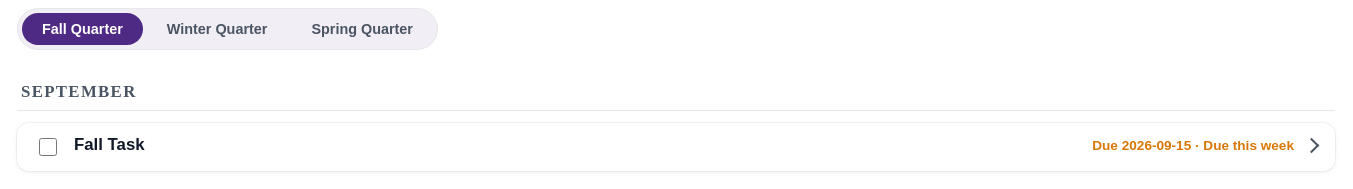
Test: QuarterBoard › switching tabs swaps which months/tasks are shown
The width and height of the screenshot is (1353, 189).
Expected: the text "Fall Task" is shown, [74,135,145,155]
Expected: the text "Winter Task" is not shown
Click the tab "Winter Quarter".
click(217, 29)  # box [147,13,287,45]
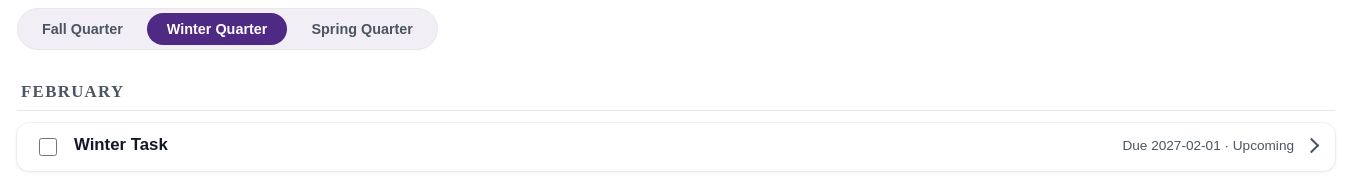
Expected: the button "Fall Task" is gone
Expected: the text "Winter Task" is shown, [74,135,168,155]
